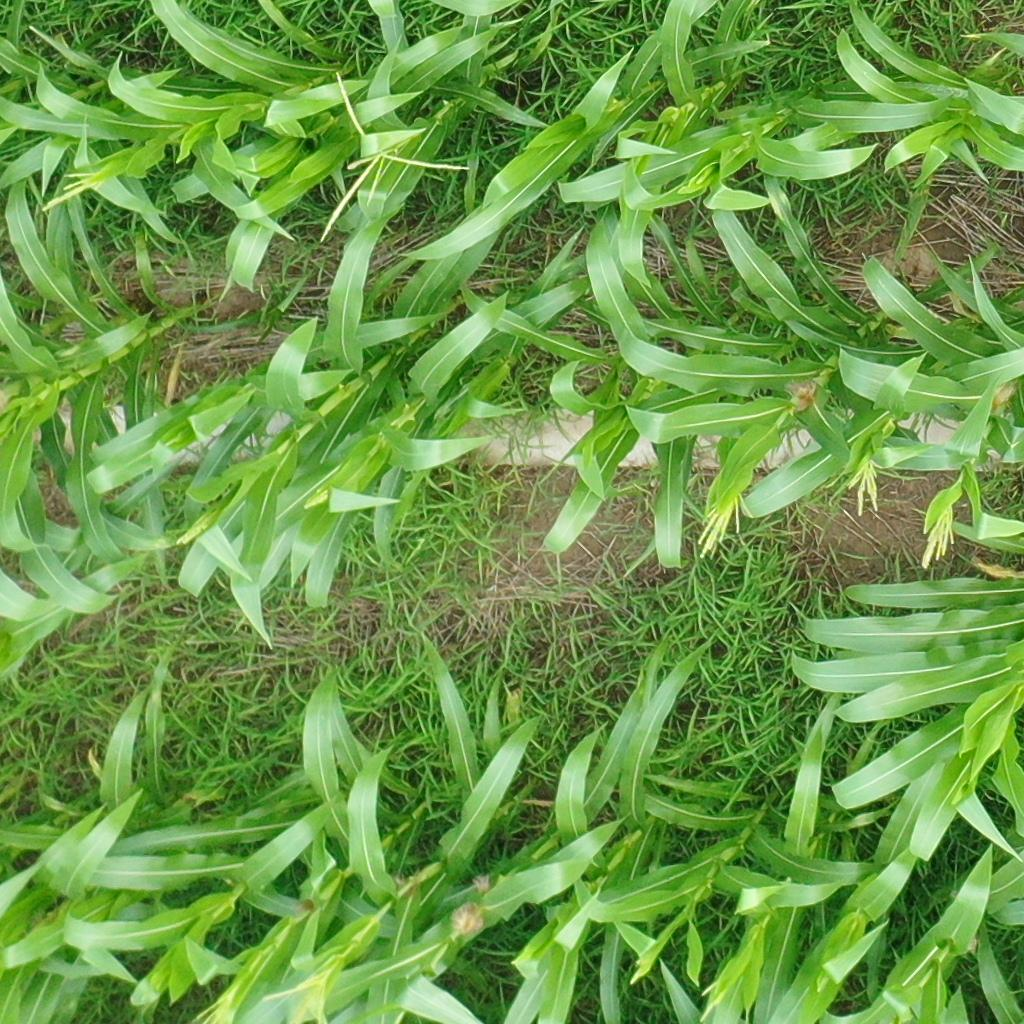Tassel: (320, 67, 470, 240), (264, 965, 335, 1024), (695, 493, 750, 559), (37, 172, 105, 214), (920, 504, 958, 574), (849, 460, 890, 515), (695, 980, 727, 1023), (196, 992, 236, 1024), (175, 517, 209, 551), (300, 487, 334, 514), (629, 954, 652, 985)
